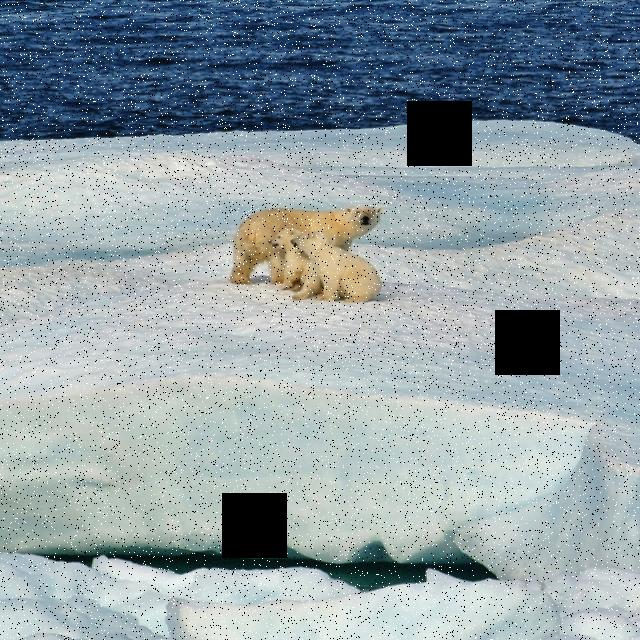Bear: (225, 198, 378, 280), (258, 225, 380, 303)
